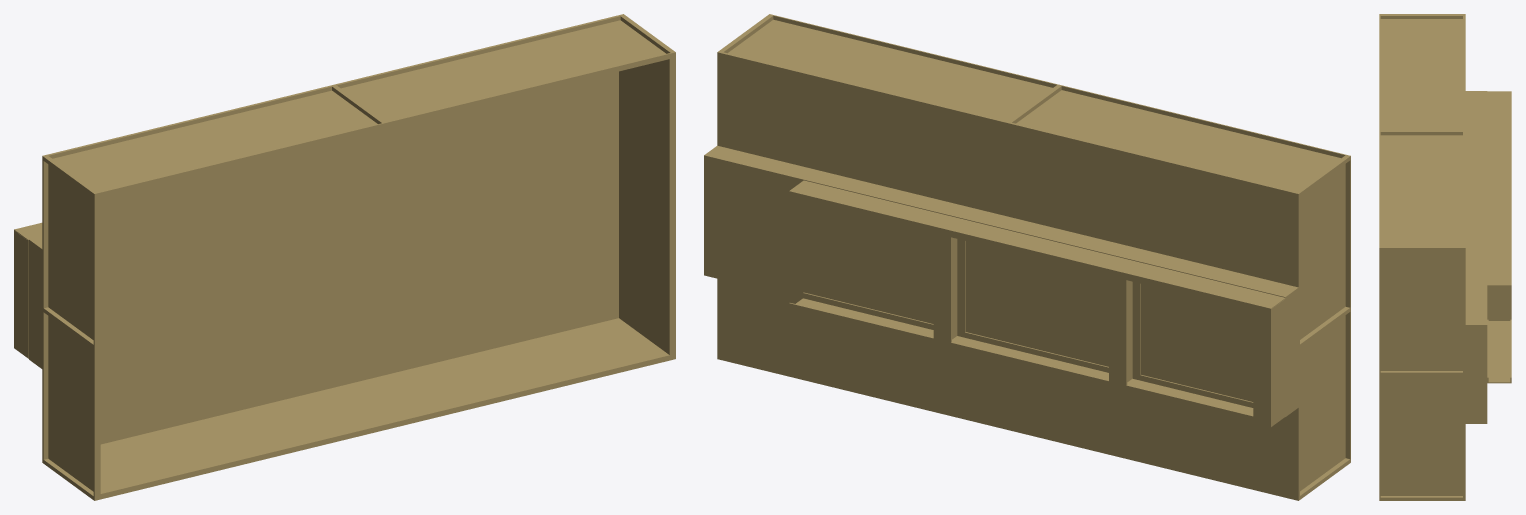
The model's file is m1083_rear.obj.
3 views of the same model, side by side, from view 1: azimuth 30°, elevation 25°; view 2: azimuth 150°, elevation 25°; view 3: azimuth 270°, elevation 25° (orthographic). The views are drawn at different scales.
Visible parts, largest first — view 1: m1078_rear; view 2: m1078_rear; view 3: m1078_rear.
Boxes of the visible parts, box(x1,y1,x2,y2) form: m1078_rear: box(14, 14, 675, 500); m1078_rear: box(704, 14, 1350, 500); m1078_rear: box(1379, 14, 1511, 500).
Bounding box in the file's own units: 4.56 × 2.3 × 1.09.
